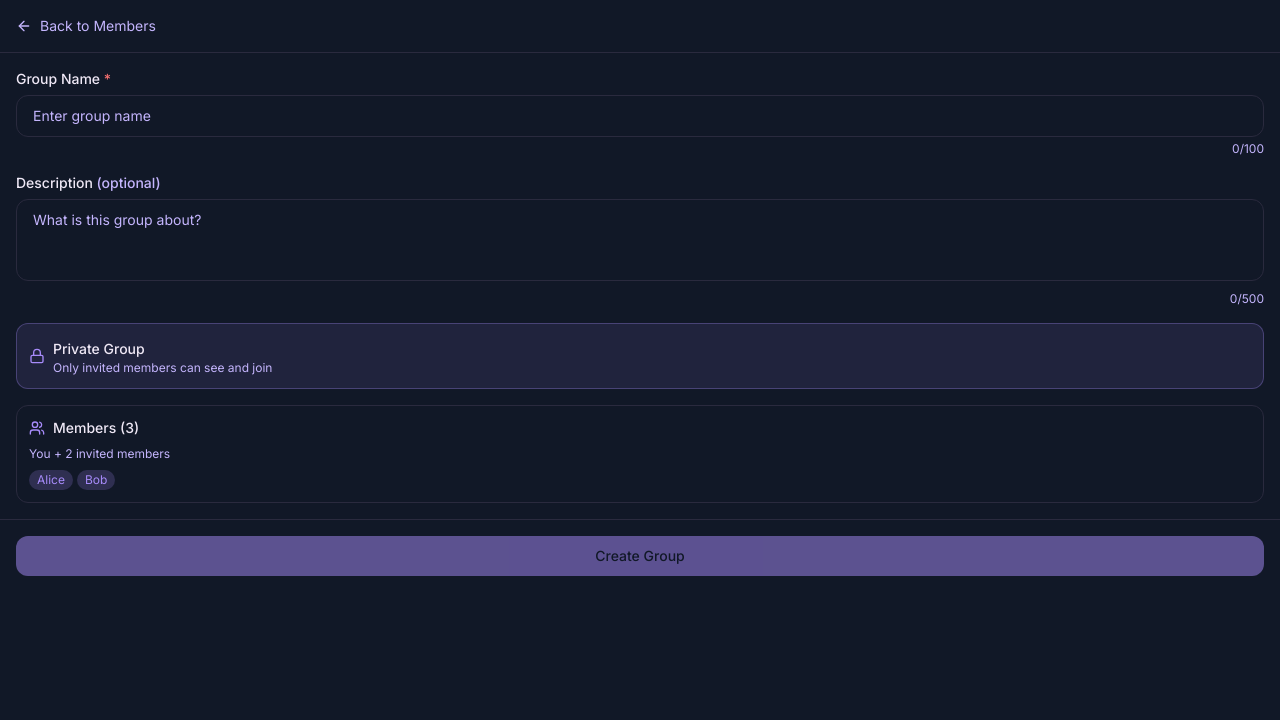
Test: GroupDetailsForm › Form validation › enables create button when name is provided
Type "Test Group" into the field labelled "Group Name *" at (640, 116), box [16,95,1264,137]
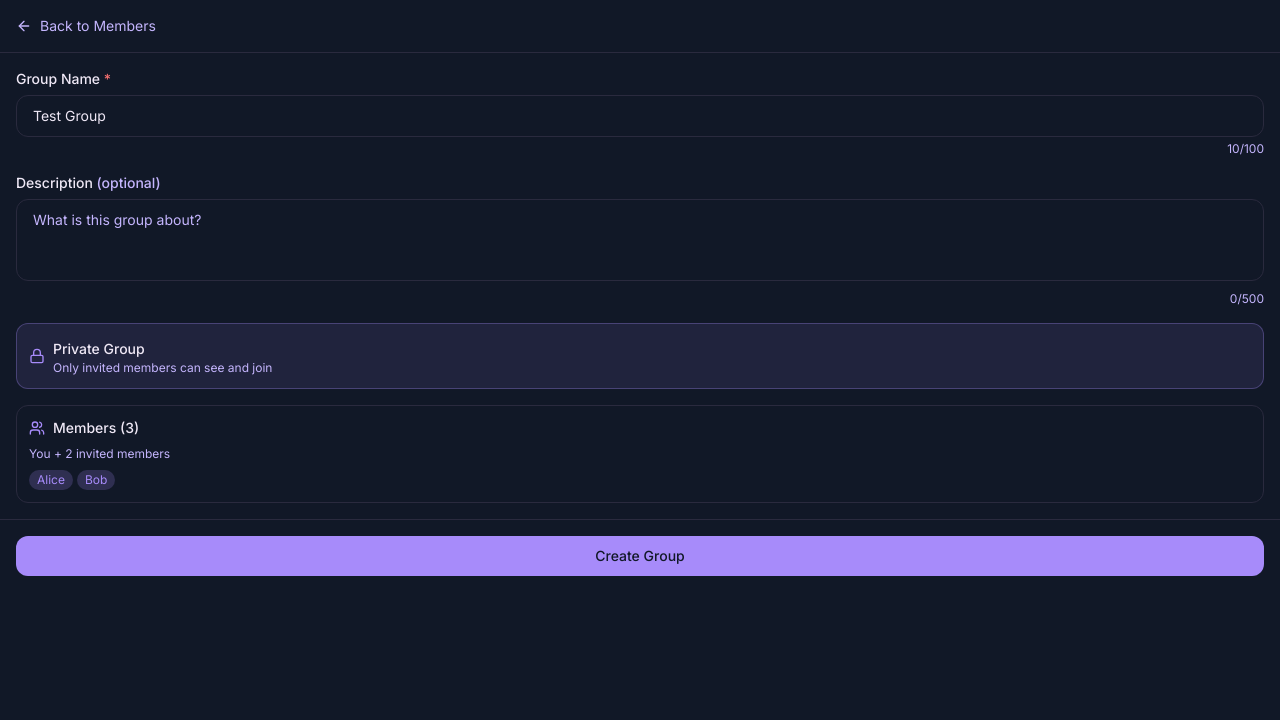
Result: the button "Create Group" is enabled at [16,536,1264,576]
